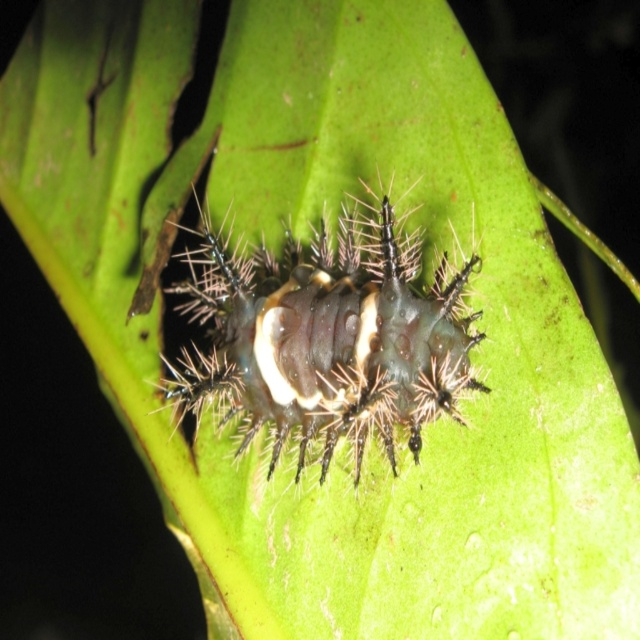Caterpillar: (138, 157, 507, 502)
